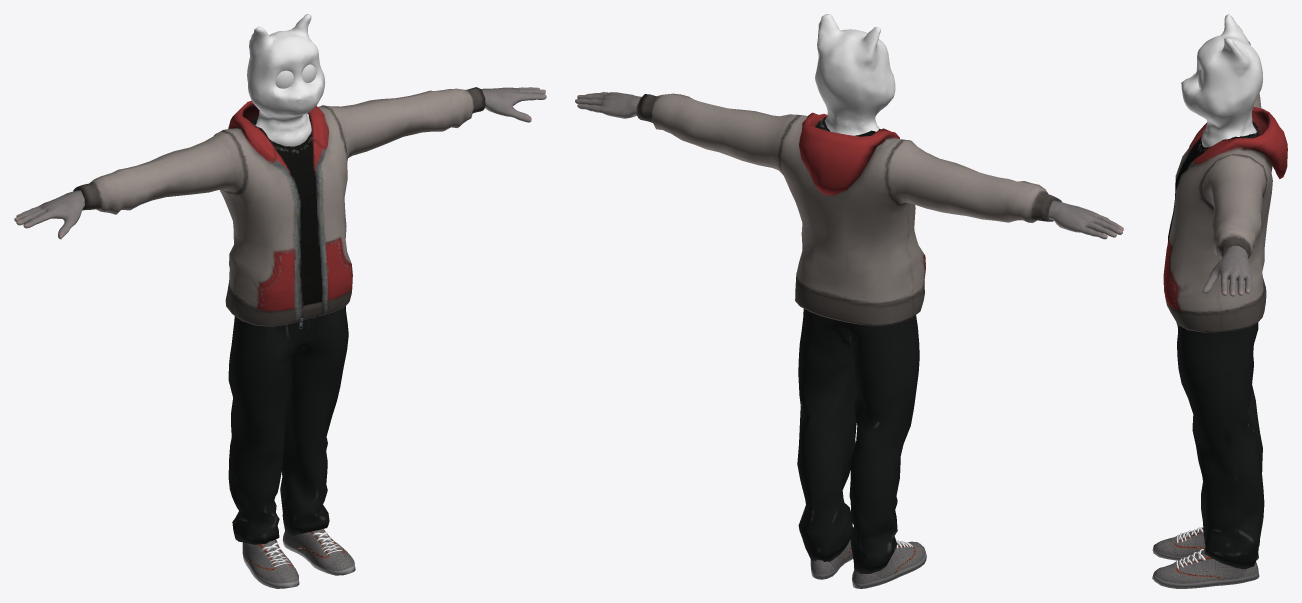
File: gray2_1blend.fbx
3 views of the same model, side by side, from view 1: azimuth 30°, elevation 25°; view 2: azimuth 150°, elevation 25°; view 3: azimuth 270°, elevation 25° (orthographic). The views are drawn at different scales.
Parts seen in each view (by area): view 1: gray_body, Icosphere; view 2: gray_body, Icosphere; view 3: gray_body, Icosphere.
Part boxes in pixels (x1,y1,x2,y2): gray_body: (14, 87, 546, 588); Icosphere: (247, 14, 325, 146); gray_body: (575, 92, 1123, 588); Icosphere: (815, 14, 895, 135); gray_body: (1152, 41, 1287, 588); Icosphere: (1181, 14, 1263, 147).
Size of the model in its own units: 1378 by 1334 by 303.
